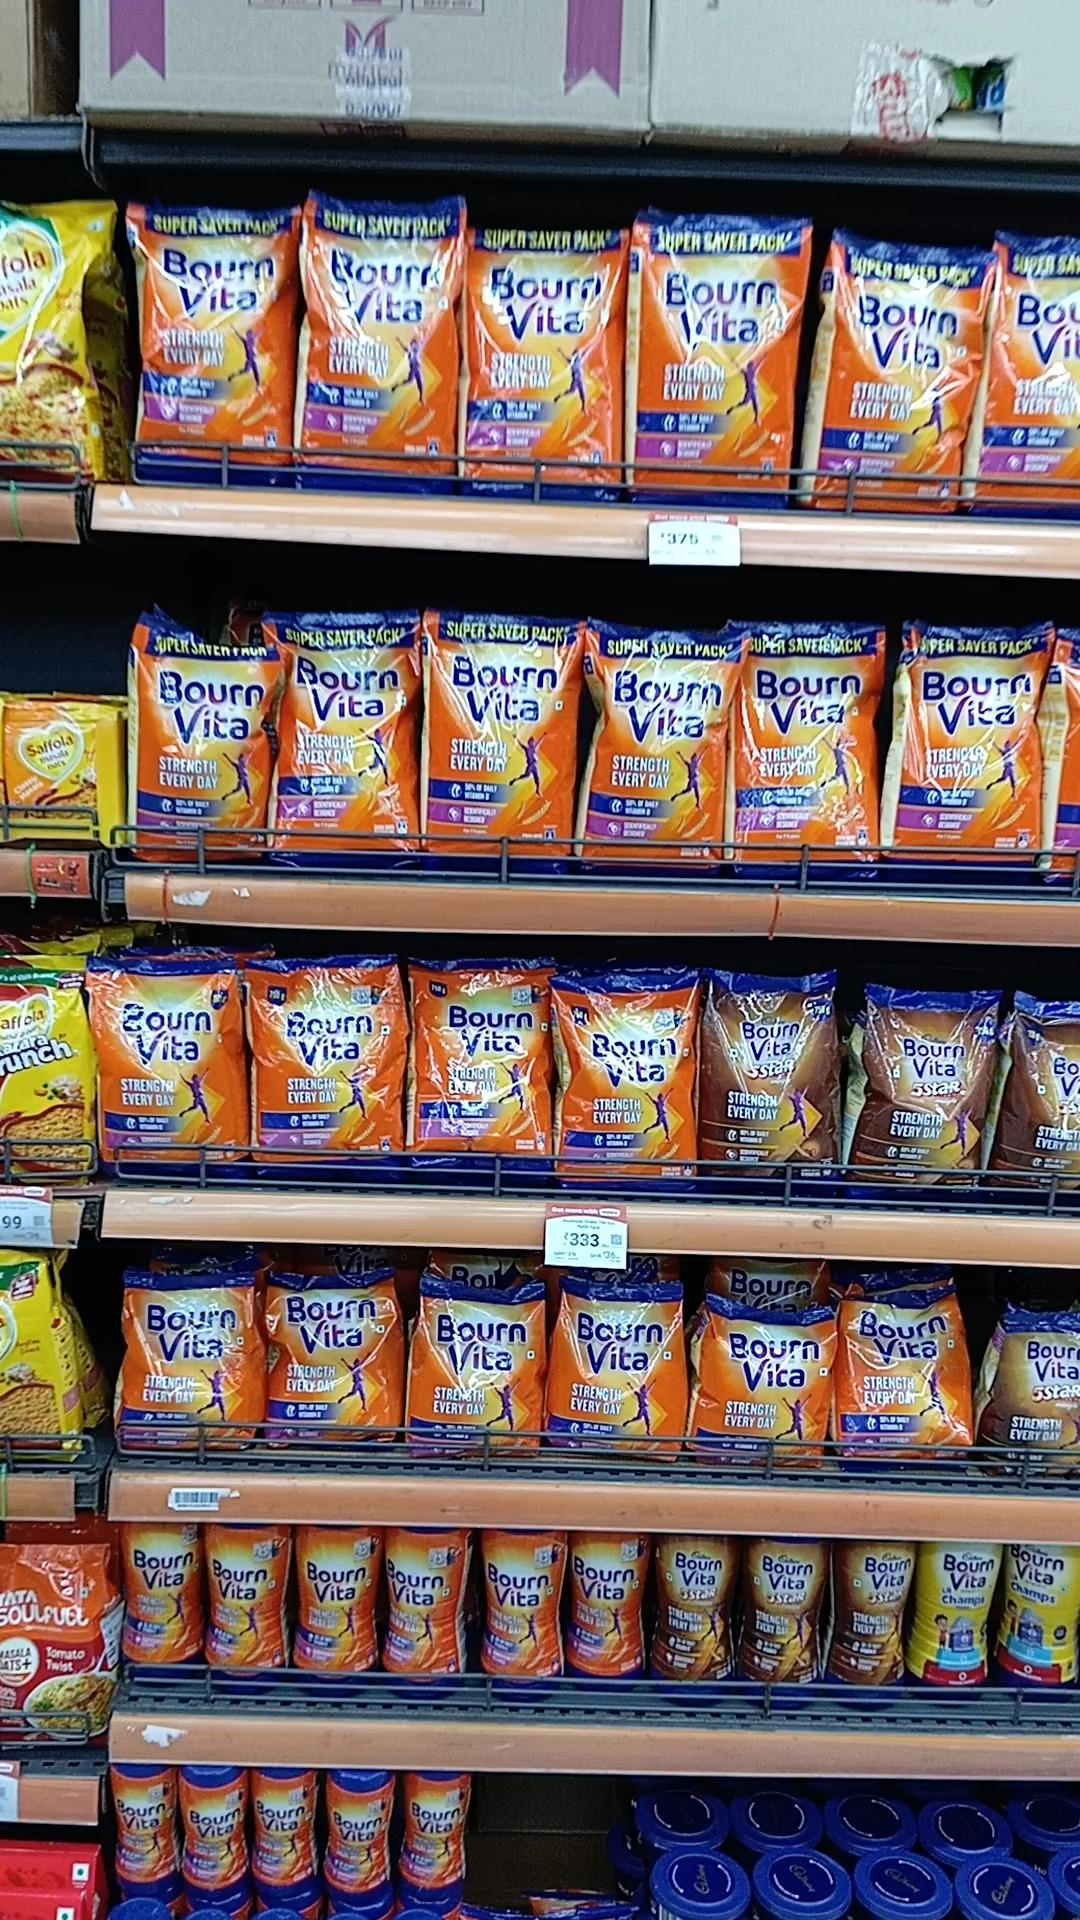BOURN_VITA_1_KG_POUCH: (638, 207, 796, 504), (127, 198, 289, 484), (301, 189, 451, 493), (465, 231, 622, 508), (823, 232, 967, 518), (732, 617, 878, 887), (894, 621, 1040, 885), (427, 608, 567, 882), (276, 612, 413, 880), (584, 625, 725, 874), (135, 621, 265, 873), (985, 228, 1080, 517)
BOURN_VITA_200_G_JAR: (320, 1767, 386, 1900), (108, 1767, 175, 1898), (179, 1759, 244, 1895), (251, 1766, 315, 1898), (404, 1771, 467, 1898)
BOURN_VITA_500_G_JAR: (479, 1526, 564, 1701), (294, 1522, 381, 1693), (203, 1524, 287, 1693), (385, 1526, 464, 1701), (121, 1520, 200, 1688), (572, 1531, 649, 1696)
BOURN_VITA_500_G_POUCH: (116, 1270, 248, 1460), (406, 1278, 539, 1465), (551, 1278, 679, 1462), (264, 1275, 396, 1443), (698, 1305, 827, 1474), (836, 1290, 952, 1465)
BOURN_VITA_750_G_POUCH: (90, 959, 243, 1188), (257, 956, 401, 1191), (413, 959, 547, 1189), (555, 969, 691, 1196)
BOURN_VITA_CHAMPS_500_G_JAR: (919, 1539, 997, 1708), (1000, 1540, 1080, 1702)
BOURN_VITA_FIVE_STAR_MAGIC_500_G_JAR: (657, 1531, 737, 1709), (832, 1536, 913, 1709), (744, 1534, 820, 1709)
BOURN_VITA_FIVE_STAR_MAGIC_500_G_POUCH: (984, 1312, 1080, 1478)
BOURN_VITA_FIVE_STAR_MAGIC_750_G_POUCH: (705, 968, 836, 1204), (865, 978, 993, 1205), (1000, 989, 1080, 1200)
